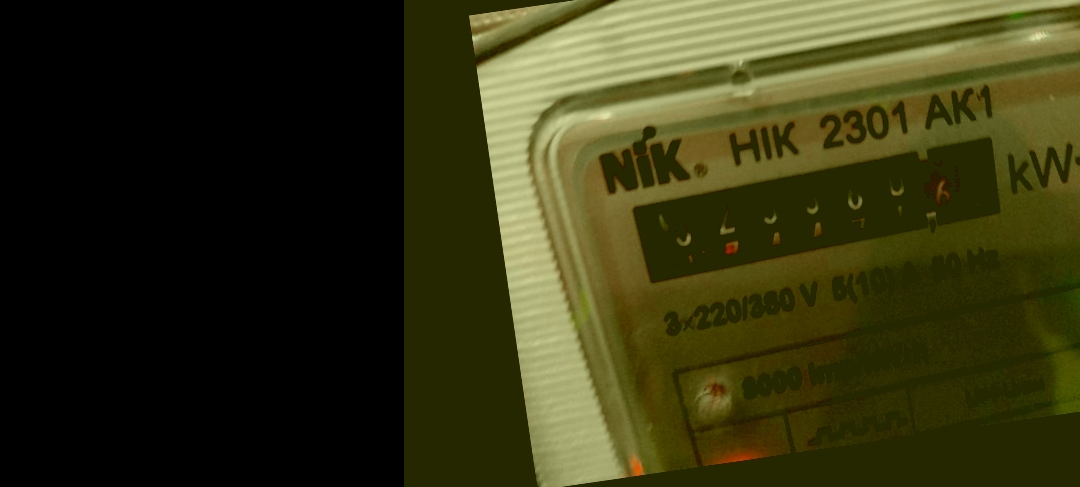0: (665, 205, 696, 250), (881, 159, 909, 199)
2: (708, 193, 740, 236)
3: (754, 185, 781, 227), (796, 177, 823, 217)
6: (837, 170, 869, 214), (930, 171, 956, 210)
screen: (606, 120, 1020, 295)
